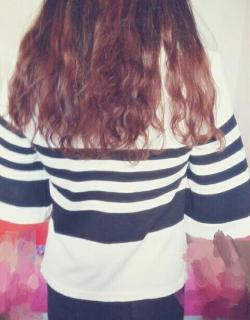long sleeve top: (0, 23, 249, 302)
